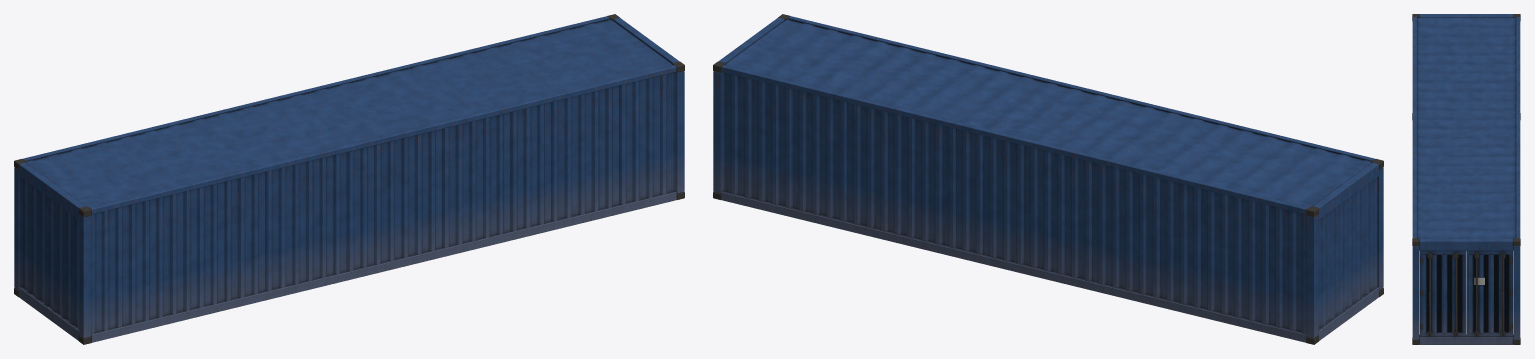
File: container40_blue.glb
The picture shows the model from 3 angles, left to right: view 1: azimuth 30°, elevation 25°; view 2: azimuth 150°, elevation 25°; view 3: azimuth 270°, elevation 25°; orthographic projection. The views are drawn at different scales.
Parts seen in each view (by area): view 1: container40_blue; view 2: container40_blue; view 3: container40_blue.
Boxes of the visible parts, <box> form: container40_blue: <box>14,14,684,344</box>; container40_blue: <box>713,14,1383,344</box>; container40_blue: <box>1412,14,1520,344</box>.
Size of the model in its own units: 12.31 by 2.59 by 2.45.
Materials: 1 (1 with a texture image).
